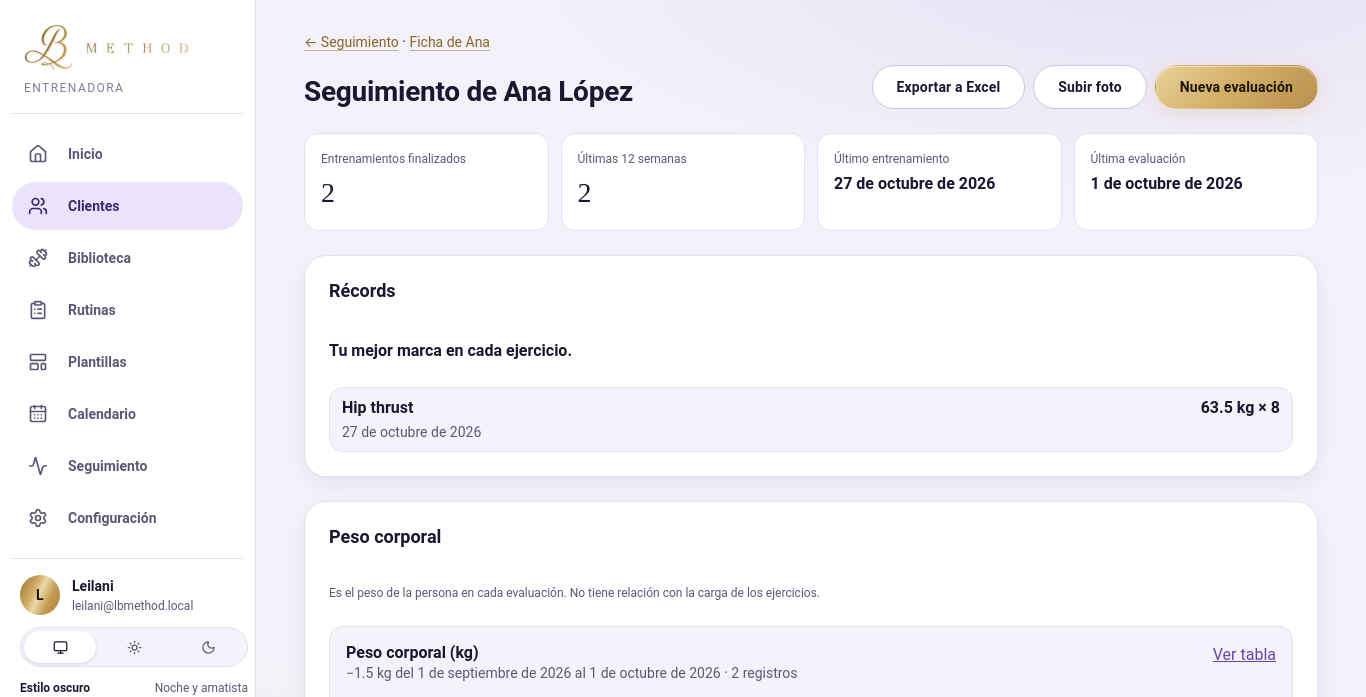
it: evaluaciones (entrenadora) › envía solo las medidas escritas y muestra el error de la API en su campo
The width and height of the screenshot is (1366, 697).
Click the button "Nueva evaluación" at (1236, 87), box [1155, 65, 1318, 109]
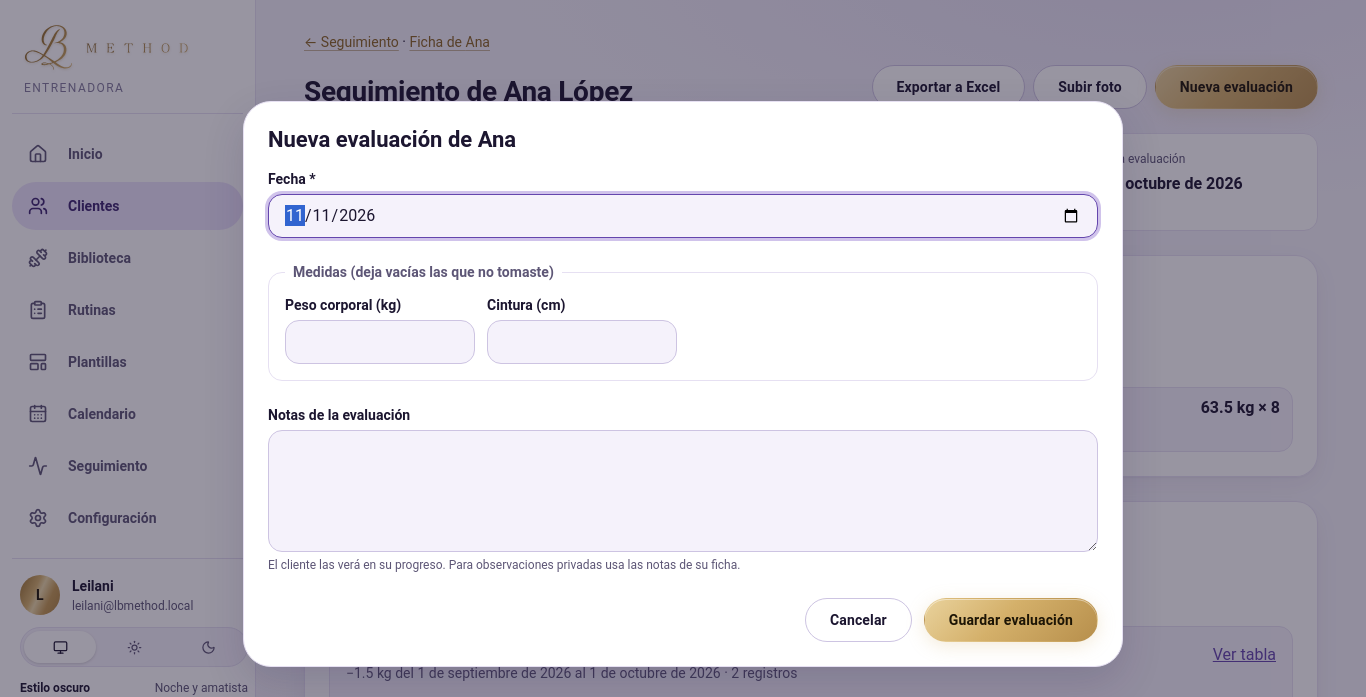
Type "7400" into the field labelled "Cintura (cm)" at (582, 342), box [487, 320, 677, 364]
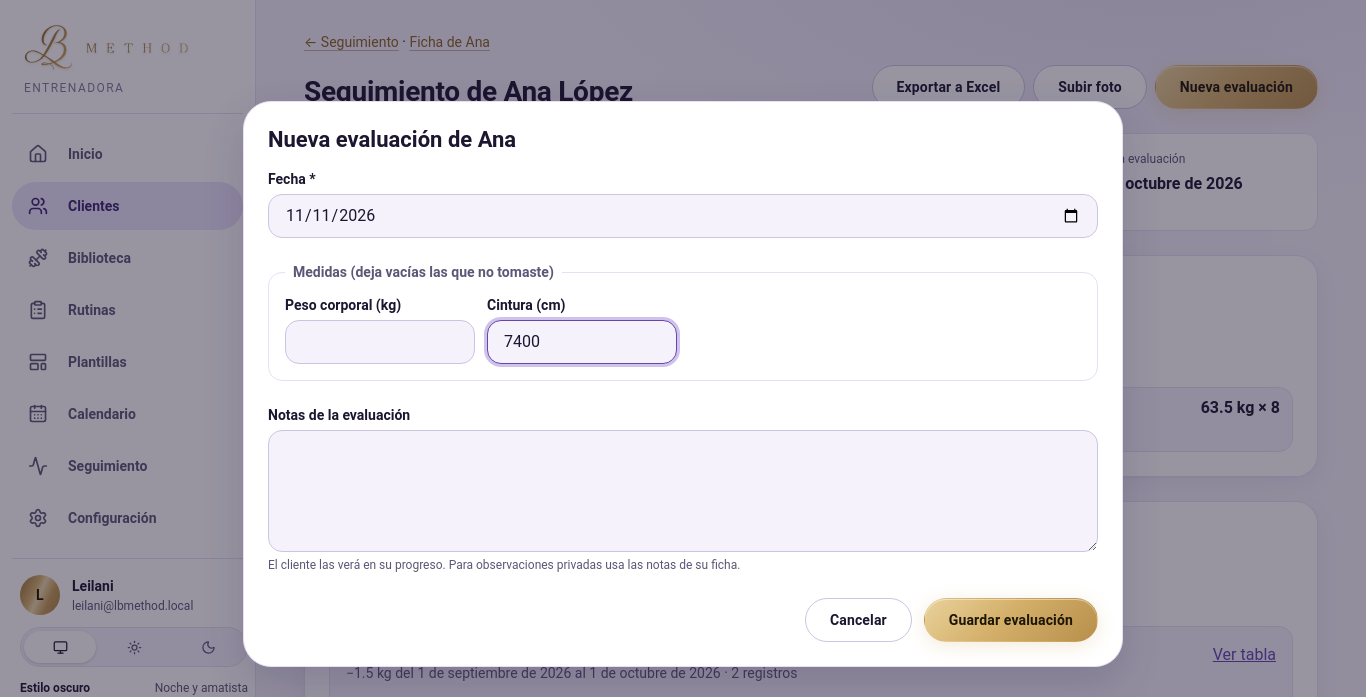
Click the button "Guardar evaluación" at (1011, 620), box [924, 598, 1098, 642]
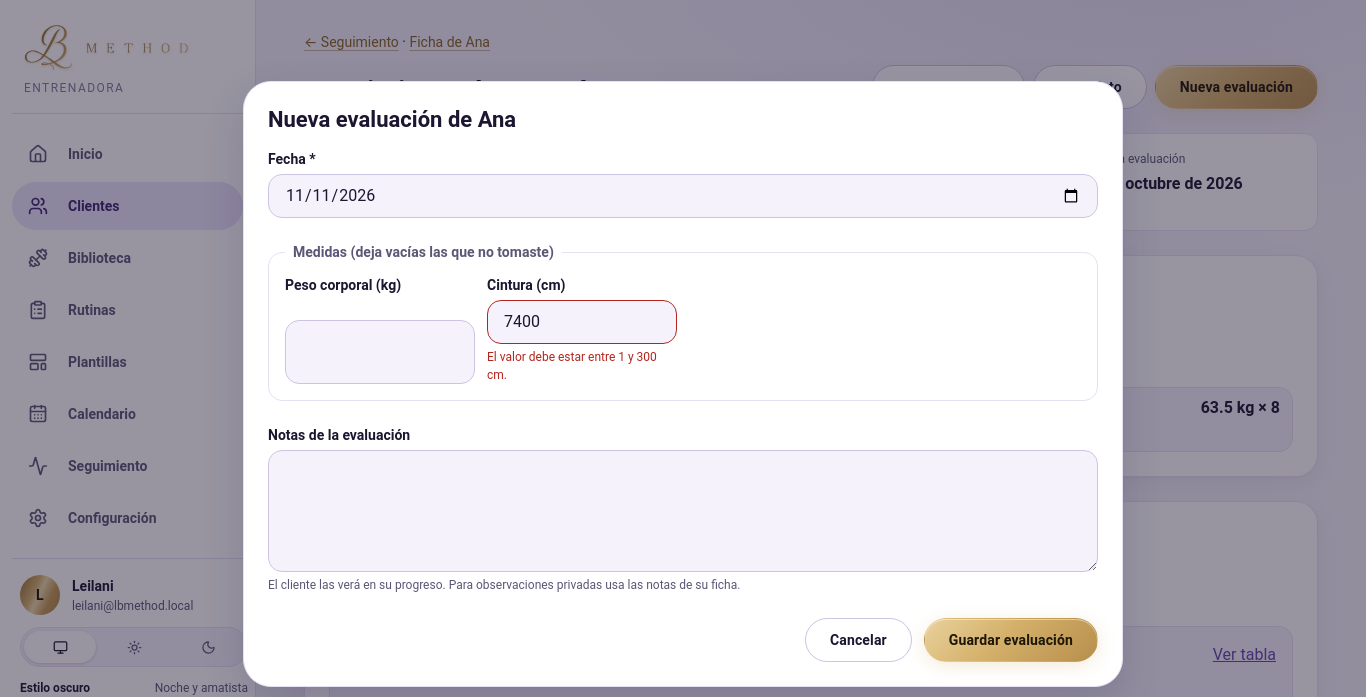
Check: the text "El valor debe estar entre 1 y 300 cm." is shown, box [487, 348, 677, 384]
Clear the field labelled "Cintura (cm)" at (582, 322), box [487, 300, 677, 344]
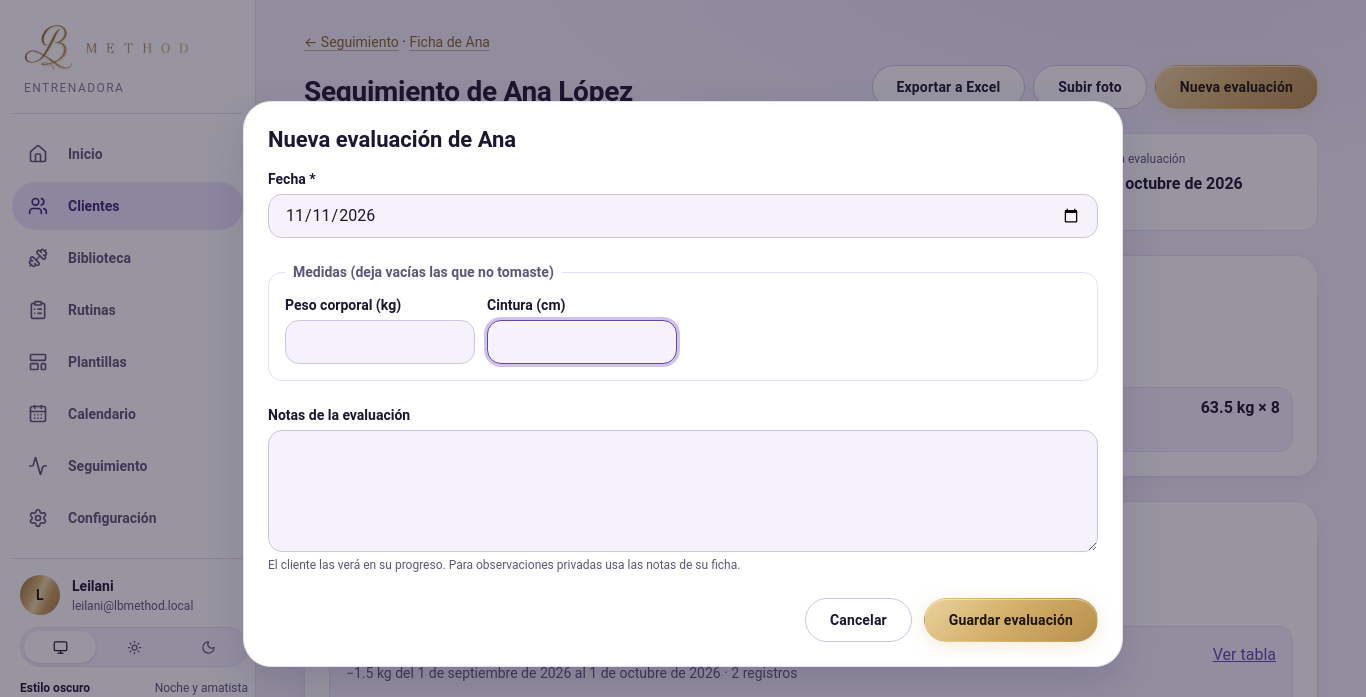
Type "73,5" into the field labelled "Cintura (cm)" at (582, 342), box [487, 320, 677, 364]
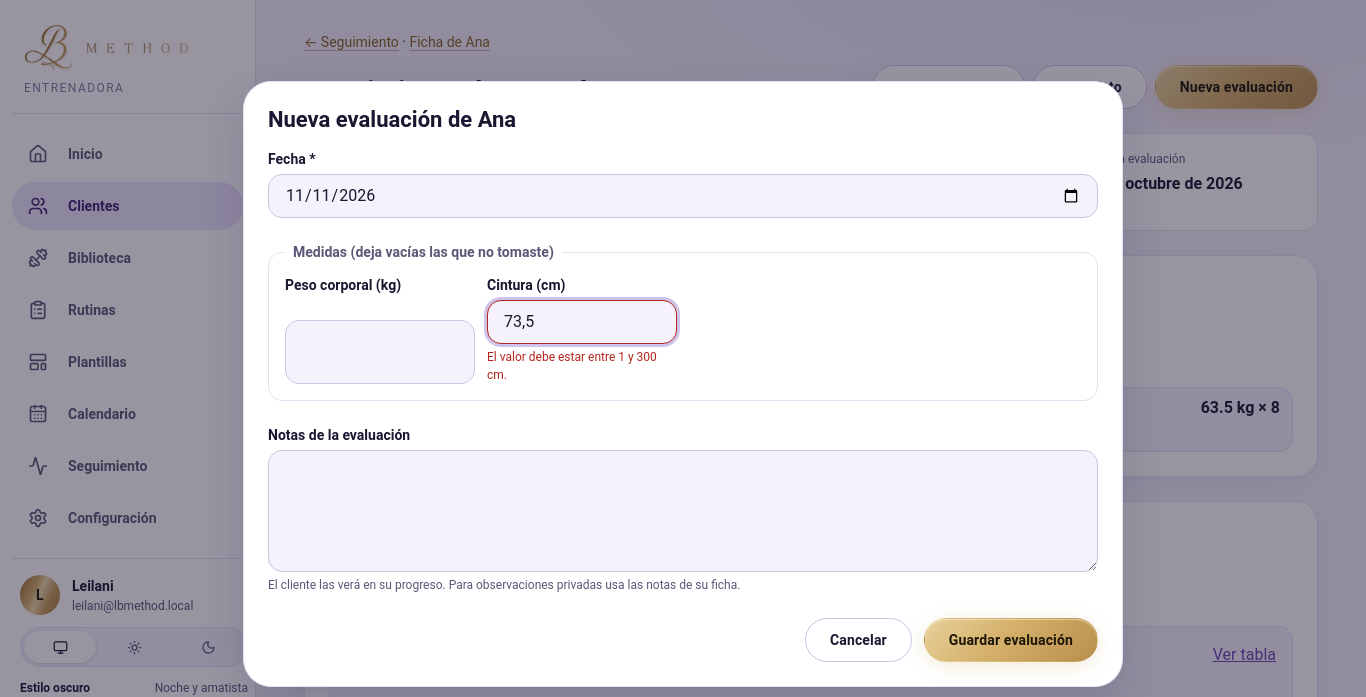
Click the button "Guardar evaluación" at (1011, 640), box [924, 618, 1098, 662]
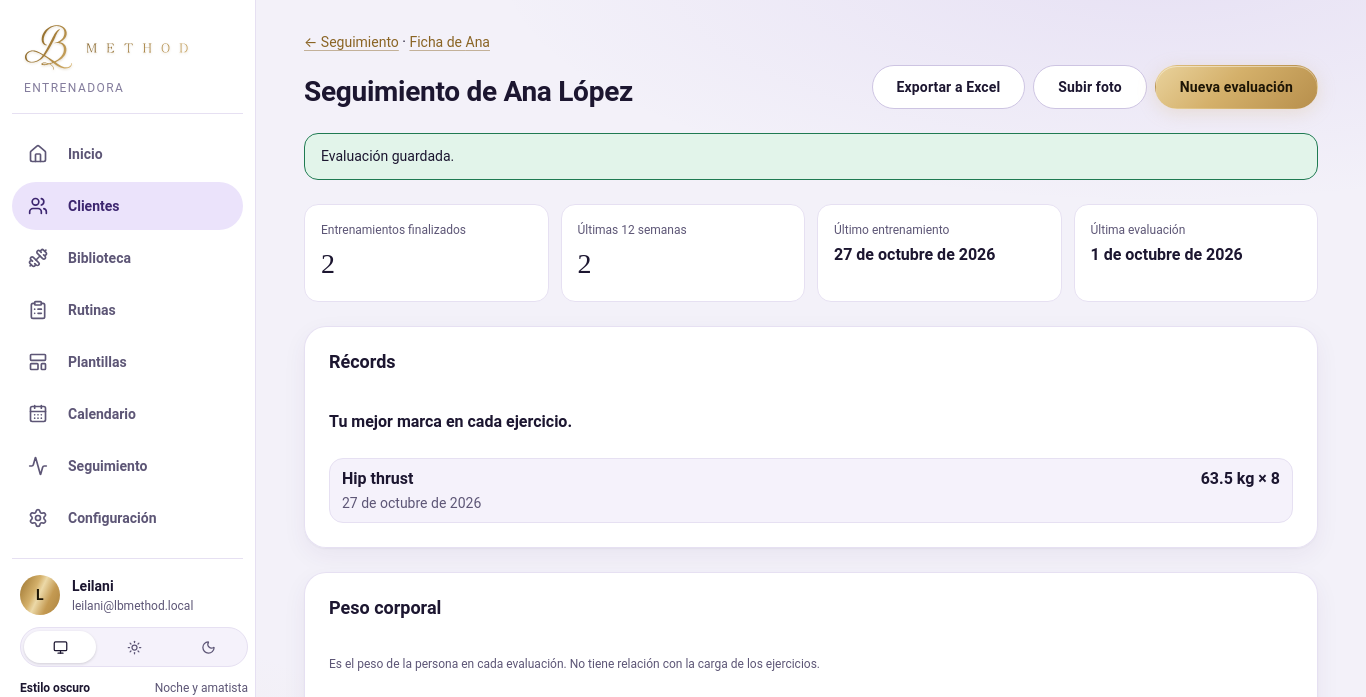
Check: the dialog is gone
